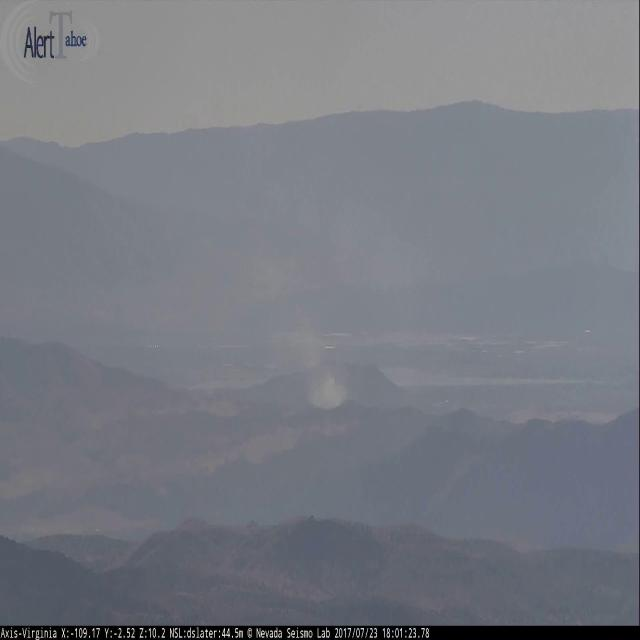smoke: (208, 197, 347, 412)
